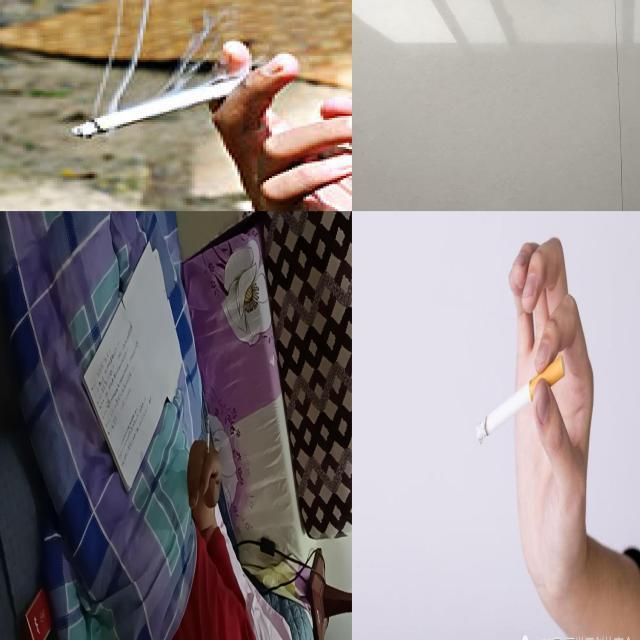smoking: (66, 76, 235, 138), (476, 356, 566, 444), (206, 418, 210, 460)
